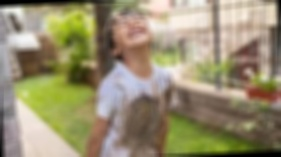earth: (123, 98, 160, 149), (165, 82, 173, 101)
